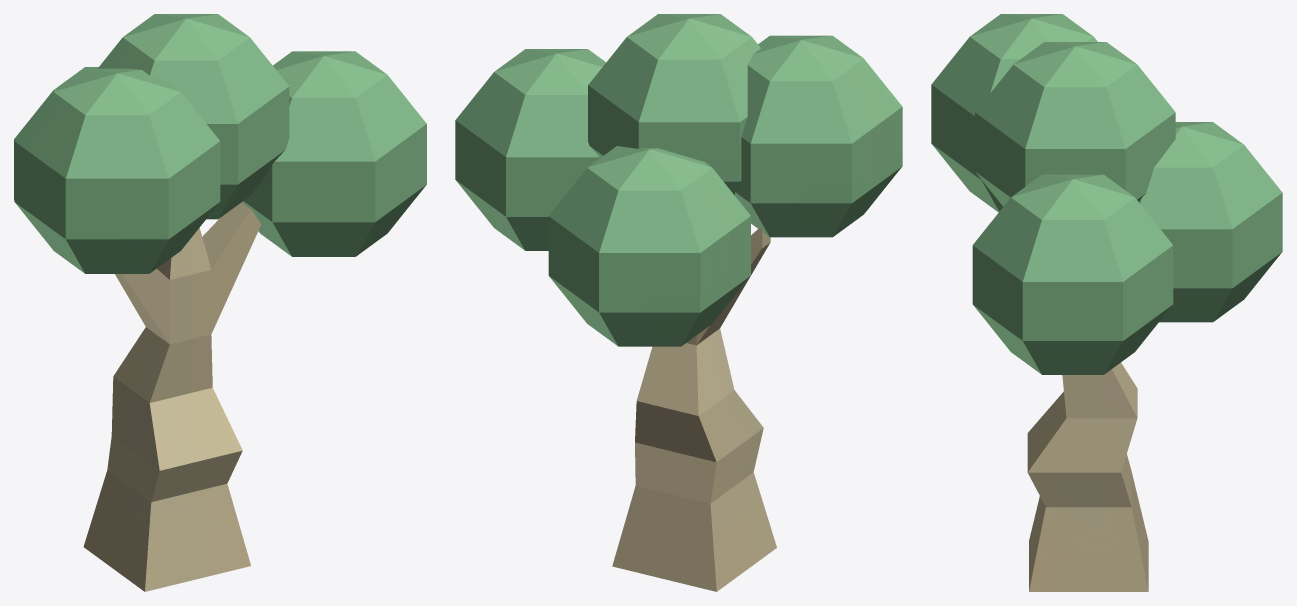
The model's file is LowAgac2.fbx.
The picture shows the model from 3 angles, left to right: view 1: azimuth 30°, elevation 25°; view 2: azimuth 150°, elevation 25°; view 3: azimuth 270°, elevation 25°; orthographic projection. The views are drawn at different scales.
Visible parts, largest first — view 1: Cube; view 2: Cube; view 3: Cube.
Boxes of the visible parts, x1=… form: Cube: x1=14, y1=14, x2=426, y2=591; Cube: x1=455, y1=14, x2=902, y2=591; Cube: x1=931, y1=14, x2=1282, y2=591.
Size of the model in its own units: 265 by 358 by 216.
